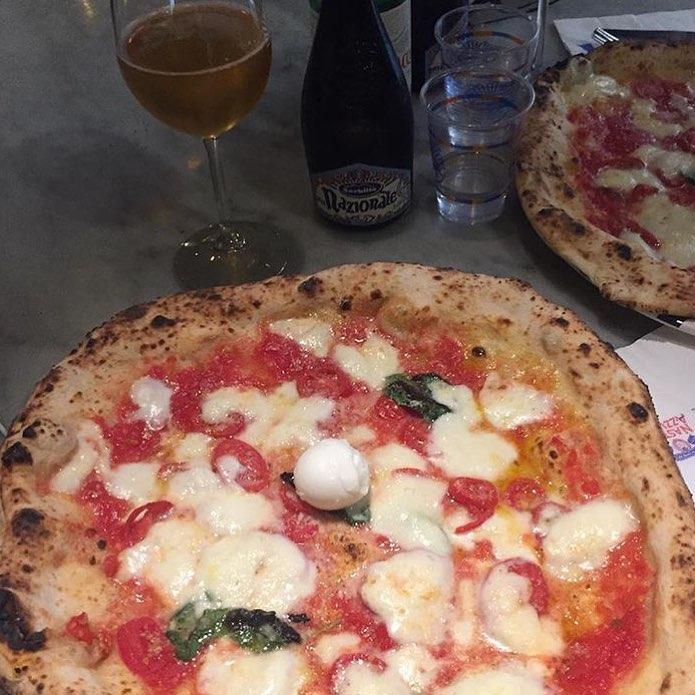Arugula: (169, 605, 285, 650), (383, 372, 448, 418)
Cheese: (194, 504, 286, 601), (289, 435, 371, 511), (383, 557, 449, 644), (380, 485, 447, 549), (552, 508, 614, 577), (83, 442, 160, 496), (209, 653, 294, 695), (644, 198, 695, 263), (444, 417, 504, 472), (608, 148, 691, 186), (360, 652, 432, 695), (250, 400, 316, 446), (623, 94, 689, 139), (493, 575, 533, 649), (443, 670, 551, 695), (145, 533, 187, 597), (482, 382, 544, 420), (128, 378, 176, 422)
Pizza: (0, 262, 695, 695), (519, 34, 695, 314)
Tomatoes: (122, 623, 188, 686), (364, 397, 430, 457), (175, 393, 248, 438), (208, 438, 266, 494), (295, 355, 354, 410), (445, 472, 491, 541), (493, 557, 550, 612), (118, 498, 173, 545), (258, 332, 301, 384), (330, 650, 386, 679)
